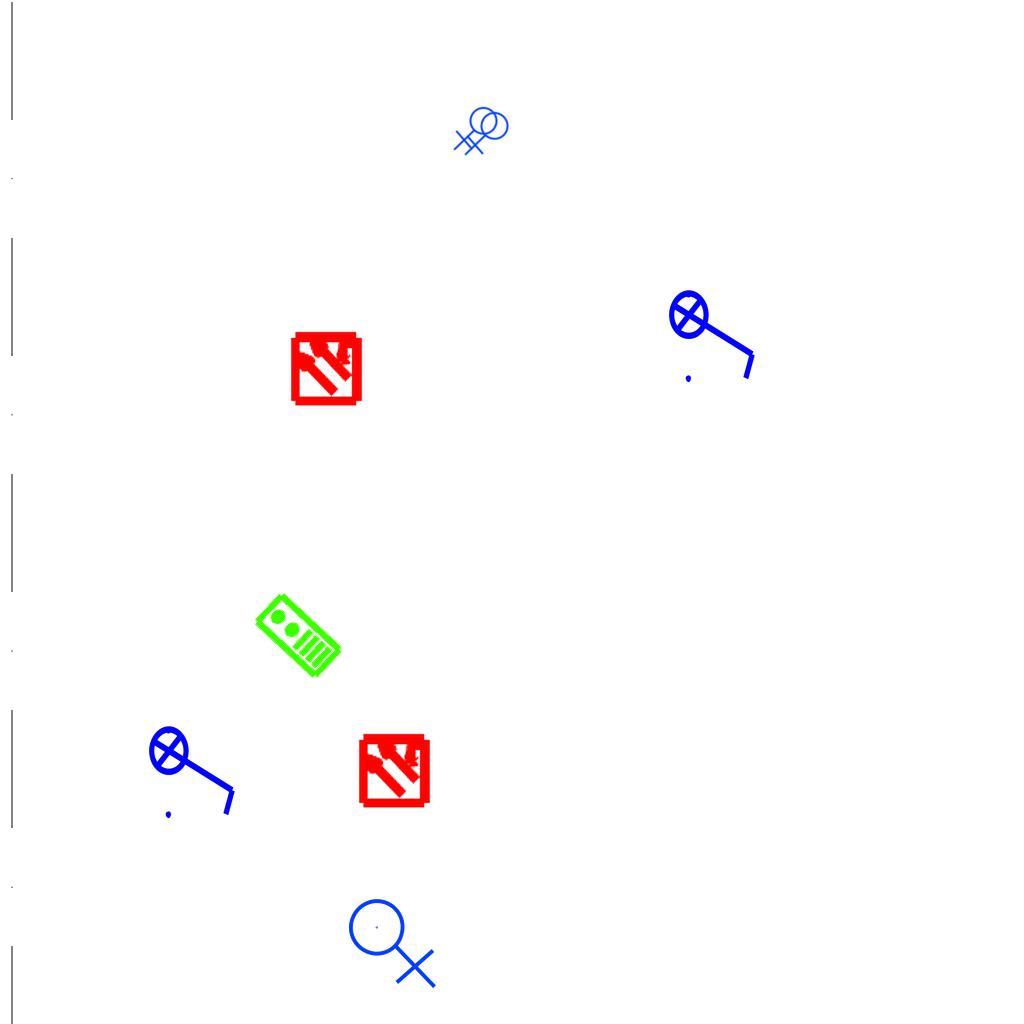Ausschalter_beleuchtet: (667, 276, 763, 388), (147, 712, 243, 824)
Elektroanschluss_allgemein_230V_Geraeteanschlussdose_230V: (347, 890, 441, 989), (453, 106, 502, 153), (464, 111, 513, 158)
Gegensprechanlage_mit_Video: (249, 588, 346, 684)
OT_Multisensormelder_(Kombination_RMO_WMD): (338, 712, 451, 825), (270, 310, 383, 423)
